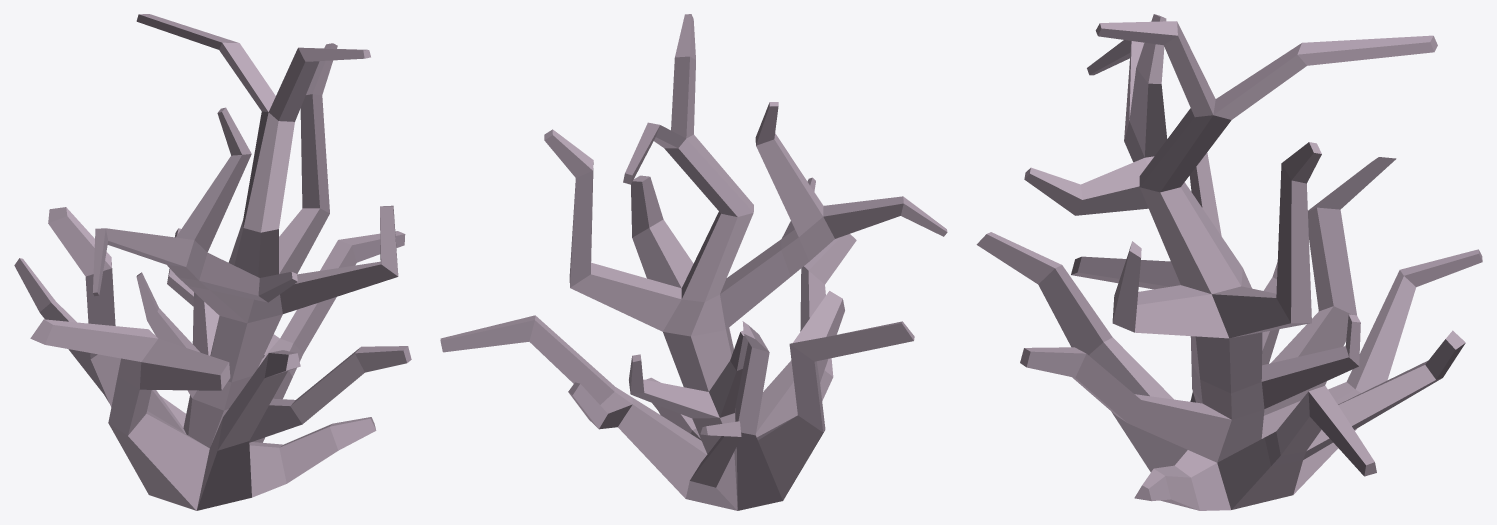
Rendered from roots_big.fbx.
3 renders of one model, left to right at view 1: azimuth 30°, elevation 25°; view 2: azimuth 150°, elevation 25°; view 3: azimuth 270°, elevation 25°, orthographic. The views are drawn at different scales.
Parts seen in each view (by area): view 1: Cube; view 2: Cube; view 3: Cube.
Boxes of the visible parts, x1,y1,x2,y2 form: Cube: (14,14,411,510); Cube: (440,14,947,510); Cube: (976,14,1482,510).
Size of the model in its own units: 566 by 549 by 483.
